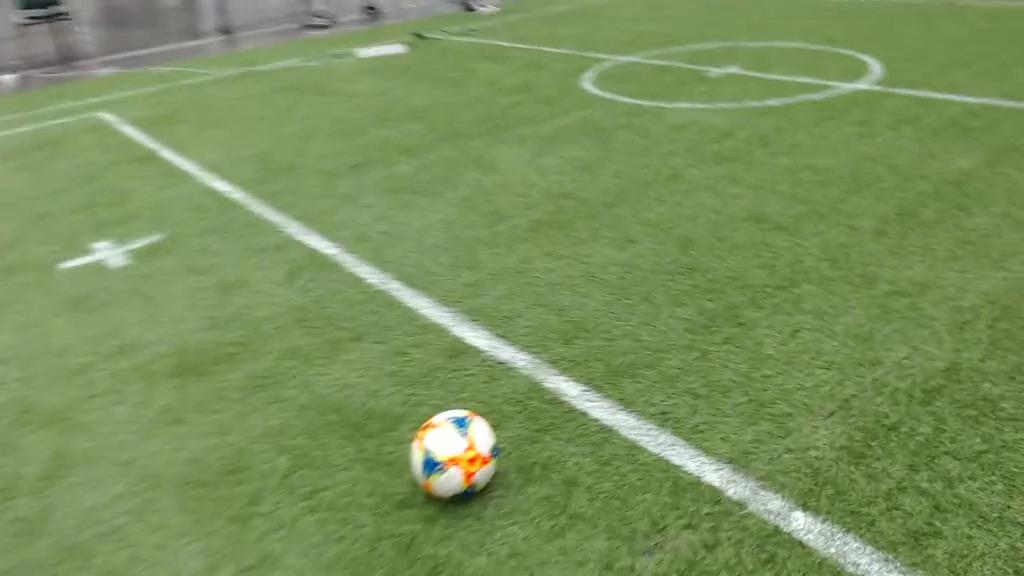ball: (412, 407, 498, 501)
